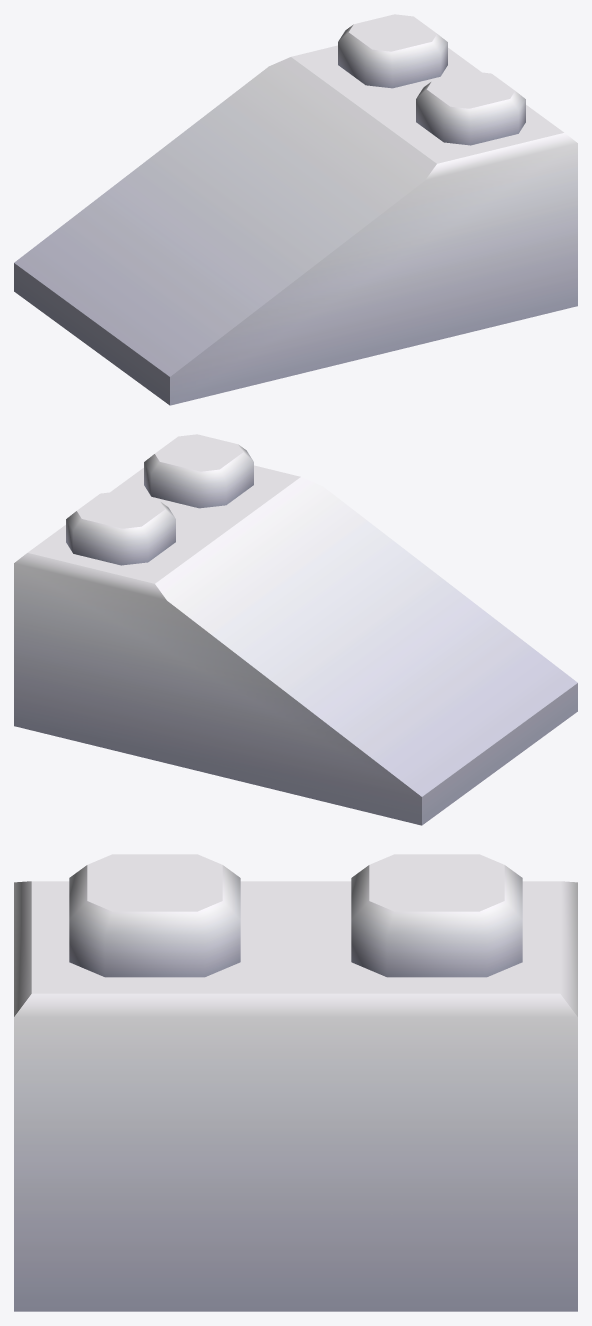
The model's file is kenney-brick-bevel-hq-brick-slope-3-x-2.glb.
3 renders of one model, top to bottom at view 1: azimuth 30°, elevation 25°; view 2: azimuth 150°, elevation 25°; view 3: azimuth 270°, elevation 25°, orthographic. The views are drawn at different scales.
Parts seen in each view (by area): view 1: bevel-hq-brick-slope-3x2; view 2: bevel-hq-brick-slope-3x2; view 3: bevel-hq-brick-slope-3x2.
Boxes of the visible parts, x1,y1,x2,y2 form: bevel-hq-brick-slope-3x2: (14,14,577,405); bevel-hq-brick-slope-3x2: (14,434,577,825); bevel-hq-brick-slope-3x2: (14,854,577,1311).
Size of the model in its own units: 0.2385 by 0.114 by 0.158.
1 material, 1 textured.
